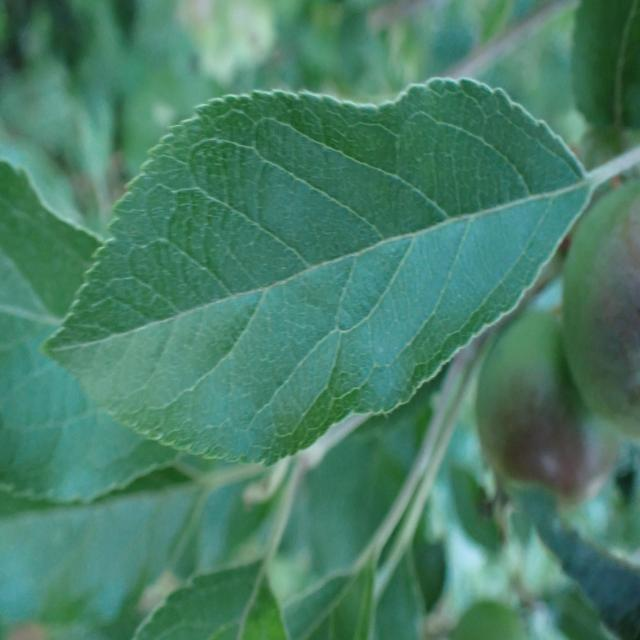healthy: (41, 77, 592, 470), (0, 160, 186, 505), (131, 558, 375, 640)
